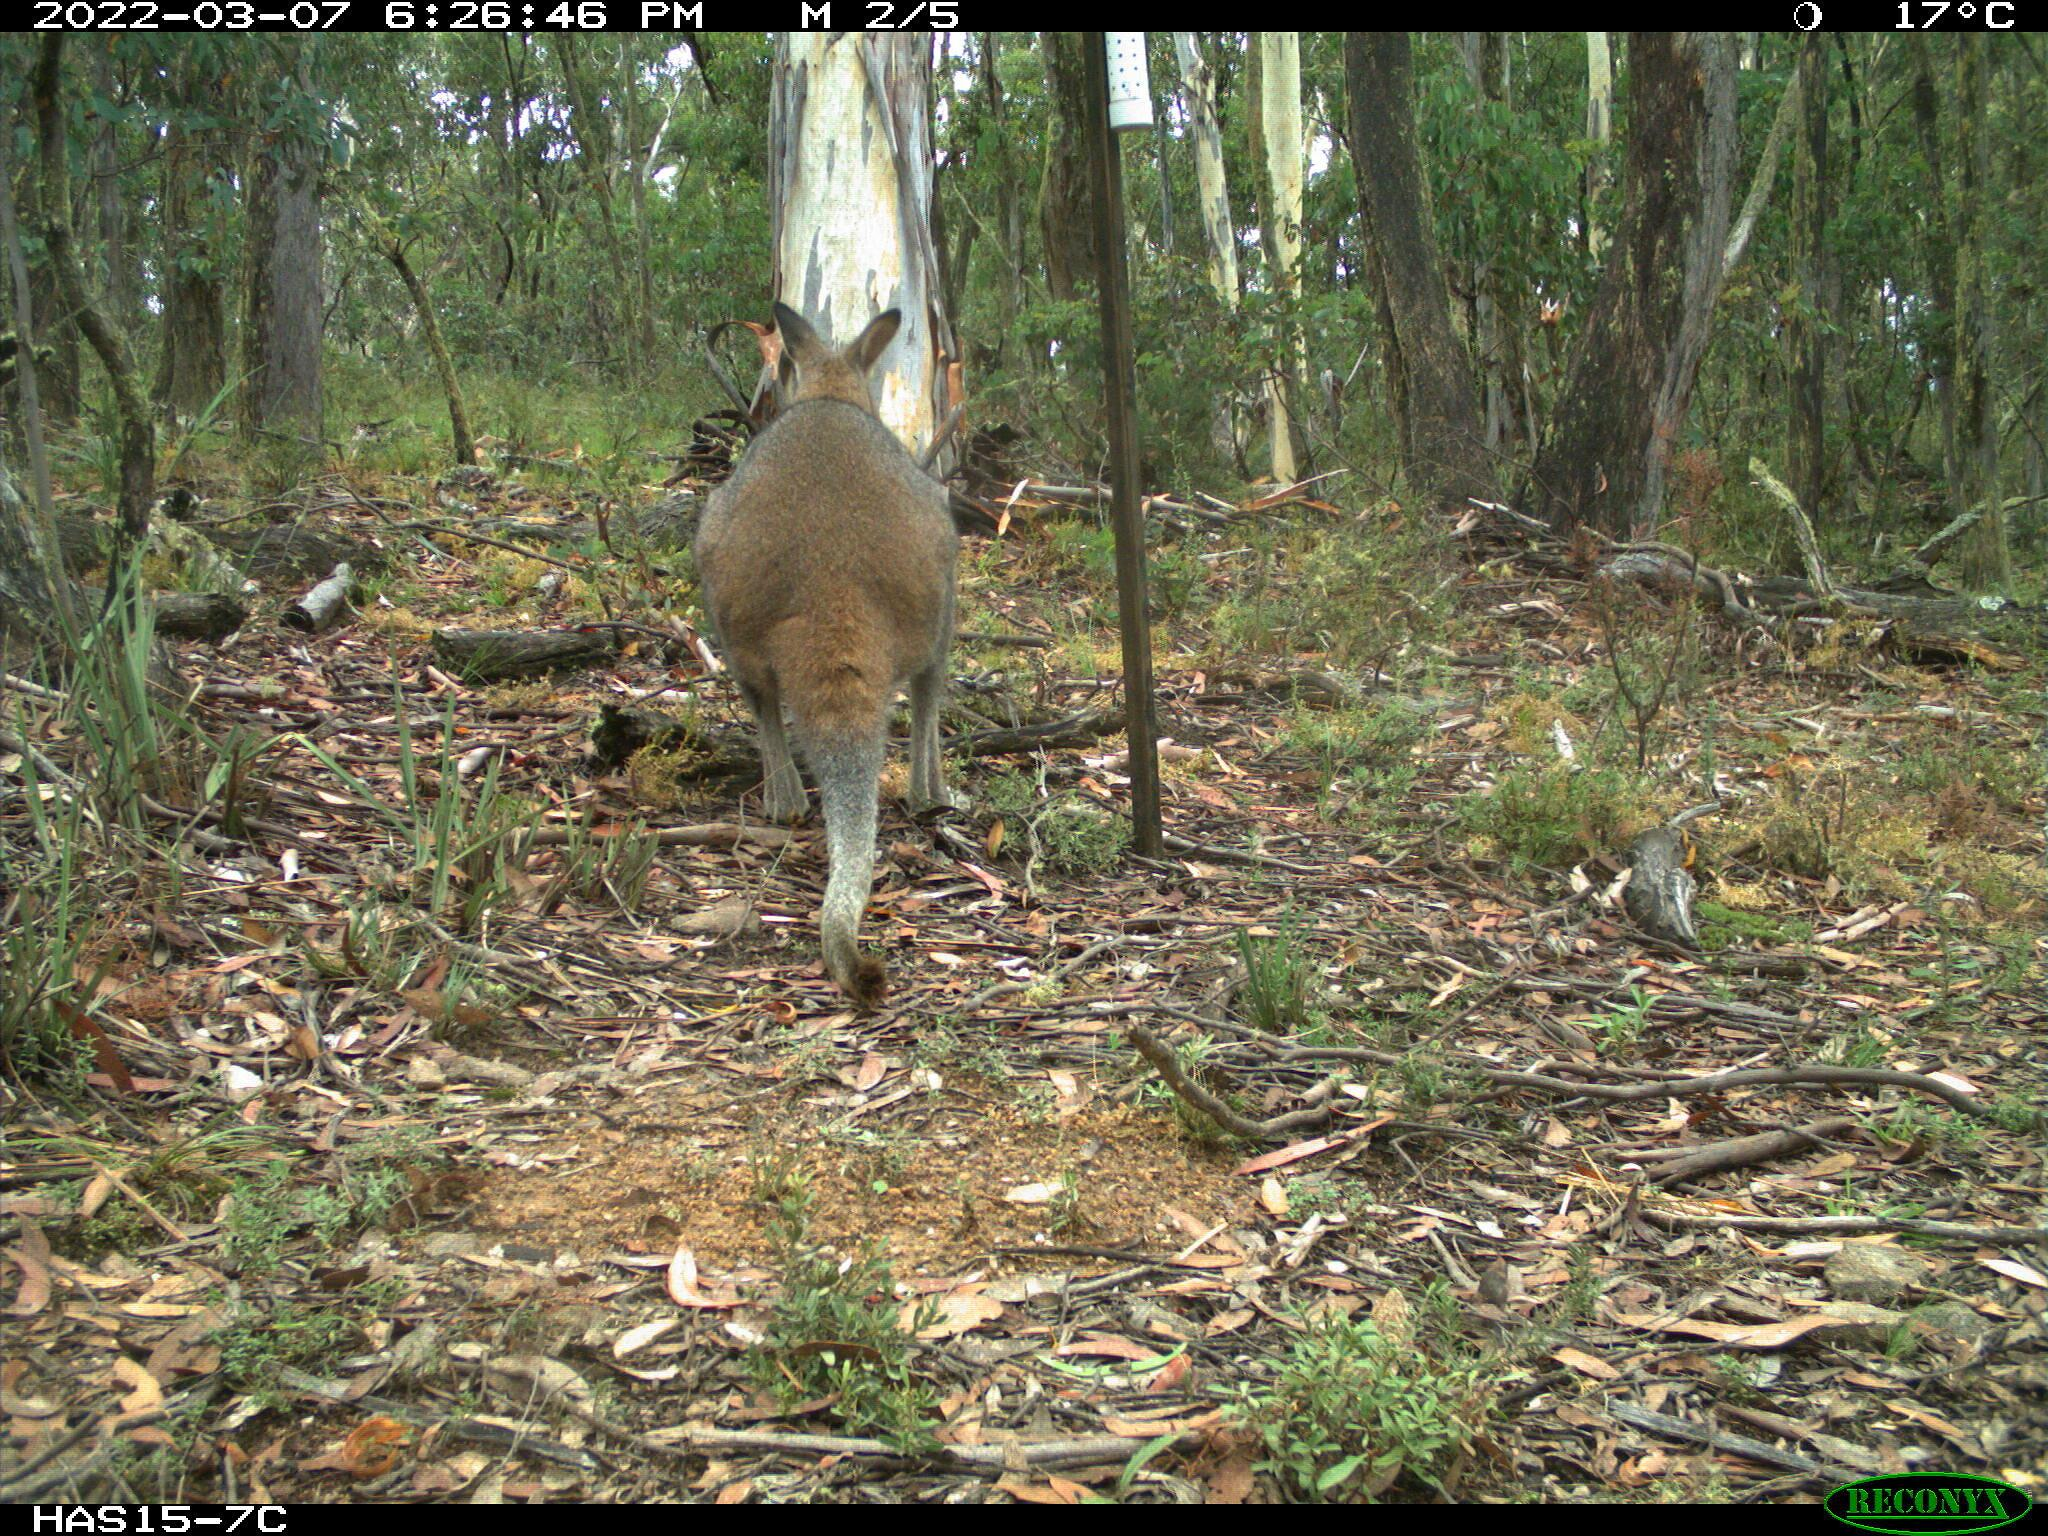Red-necked wallaby: (674, 303, 974, 1046)
